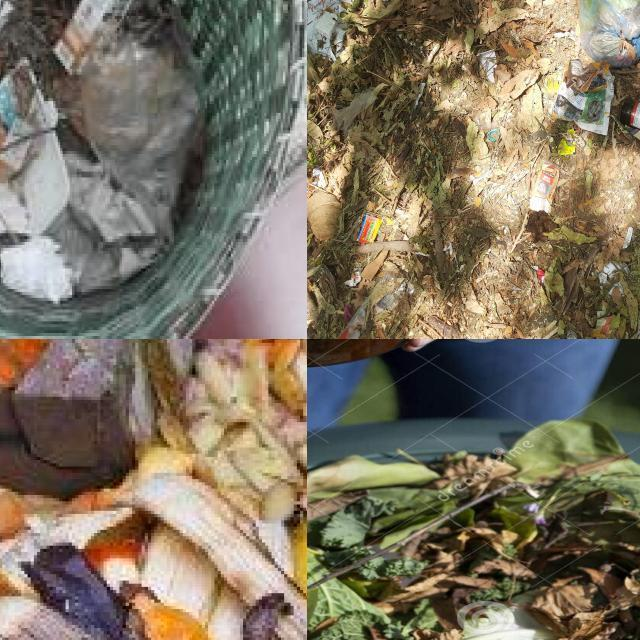Cig_pack: (530, 162, 559, 213)
Disposable: (599, 262, 628, 286), (609, 281, 623, 296)
Garbage: (307, 0, 640, 339), (0, 339, 307, 640), (307, 443, 640, 640)
Glass_bottle: (620, 97, 640, 131)
Plastic_Bag: (578, 0, 640, 68), (307, 0, 353, 57), (373, 281, 413, 313), (337, 301, 370, 339), (373, 284, 405, 313), (380, 271, 399, 284), (380, 271, 399, 281)
Plastic_wraper: (357, 215, 381, 243), (558, 138, 575, 155), (537, 269, 545, 284), (307, 183, 313, 194), (567, 128, 575, 134)
Thermocol: (316, 12, 337, 38)
contaminated_waste: (78, 33, 208, 214)
